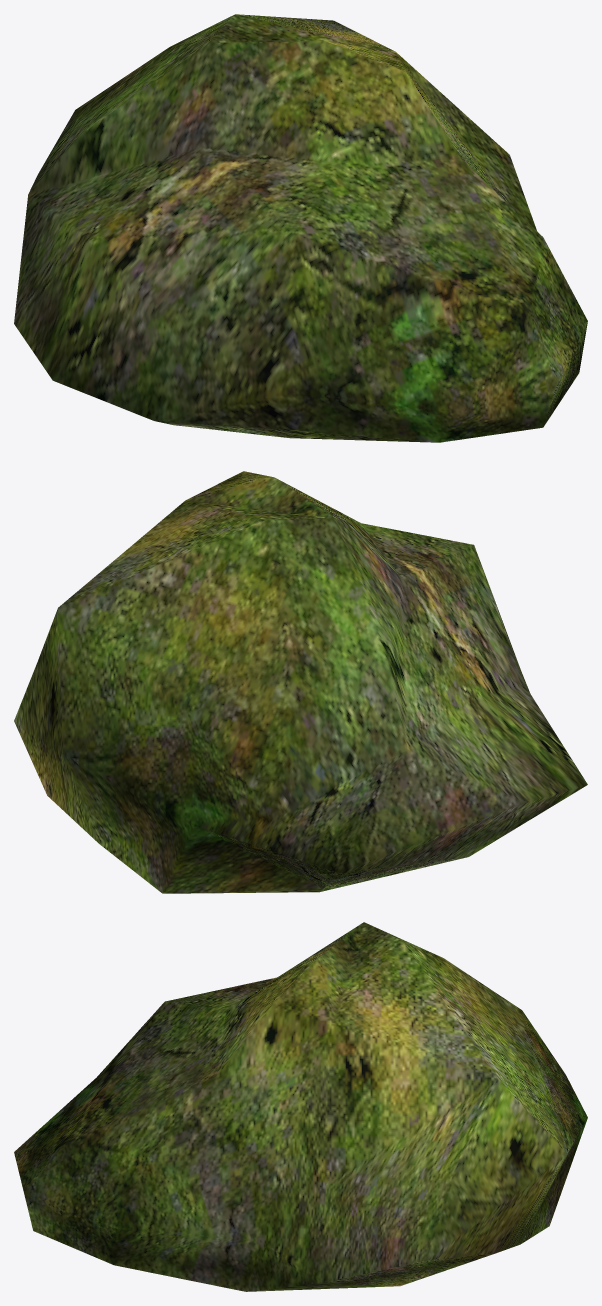
Rendered from rock_endr_mossyrock_m_l1.fbx.
3 renders of one model, top to bottom at view 1: azimuth 30°, elevation 25°; view 2: azimuth 150°, elevation 25°; view 3: azimuth 270°, elevation 25°, orthographic. The views are drawn at different scales.
Visible parts, largest first — view 1: mesh_node; view 2: mesh_node; view 3: mesh_node.
Part boxes in pixels (x1,y1,x2,y2): mesh_node: [14, 14, 587, 442]; mesh_node: [14, 471, 587, 893]; mesh_node: [14, 922, 587, 1291].
Bounding box in the file's own units: 1.47 × 0.9714 × 1.64.
